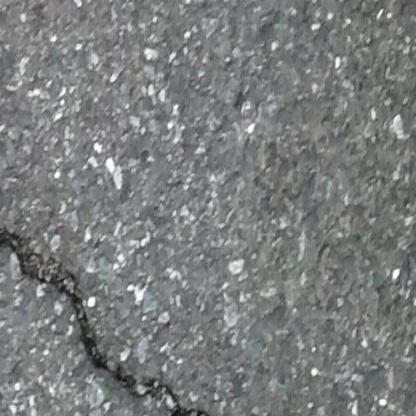Cracks: (0, 188, 222, 416)
